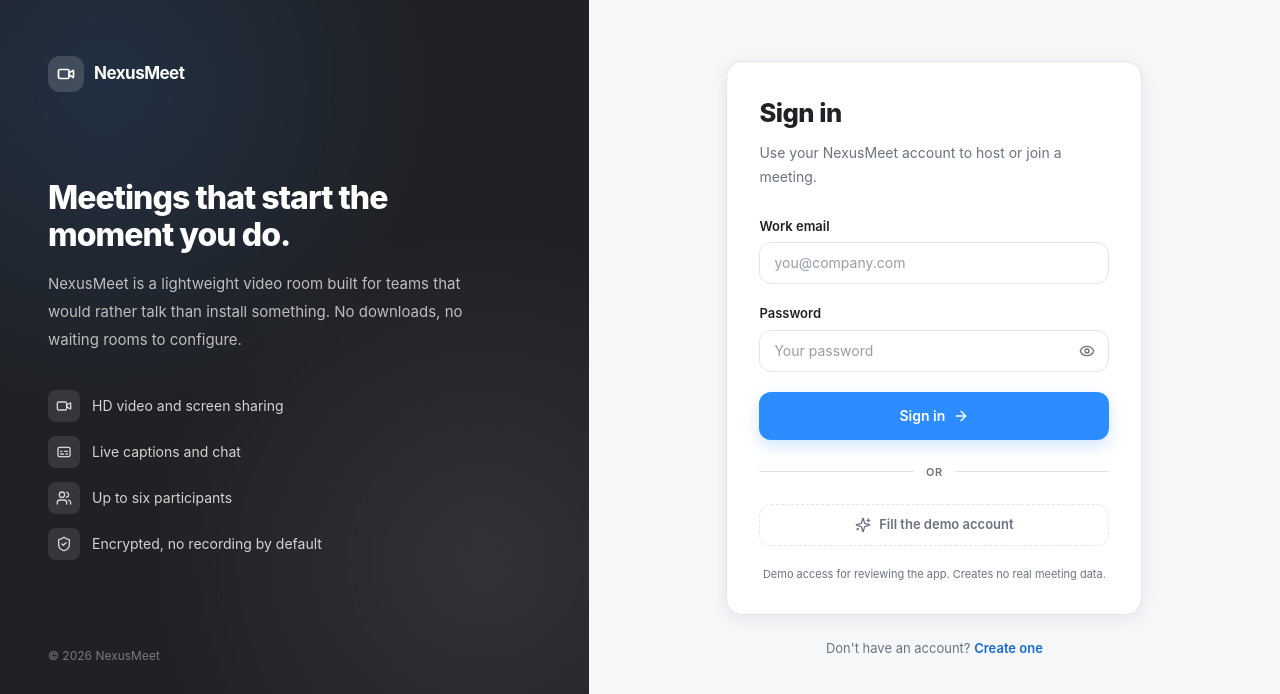
Test: SignInForm › maps a 422 password error onto the password field instead of a generic banner
The width and height of the screenshot is (1280, 694).
Type "demo@nexusmeet.app" into the field labelled "Work email". click: (934, 263)
box: [759, 242, 1109, 284]
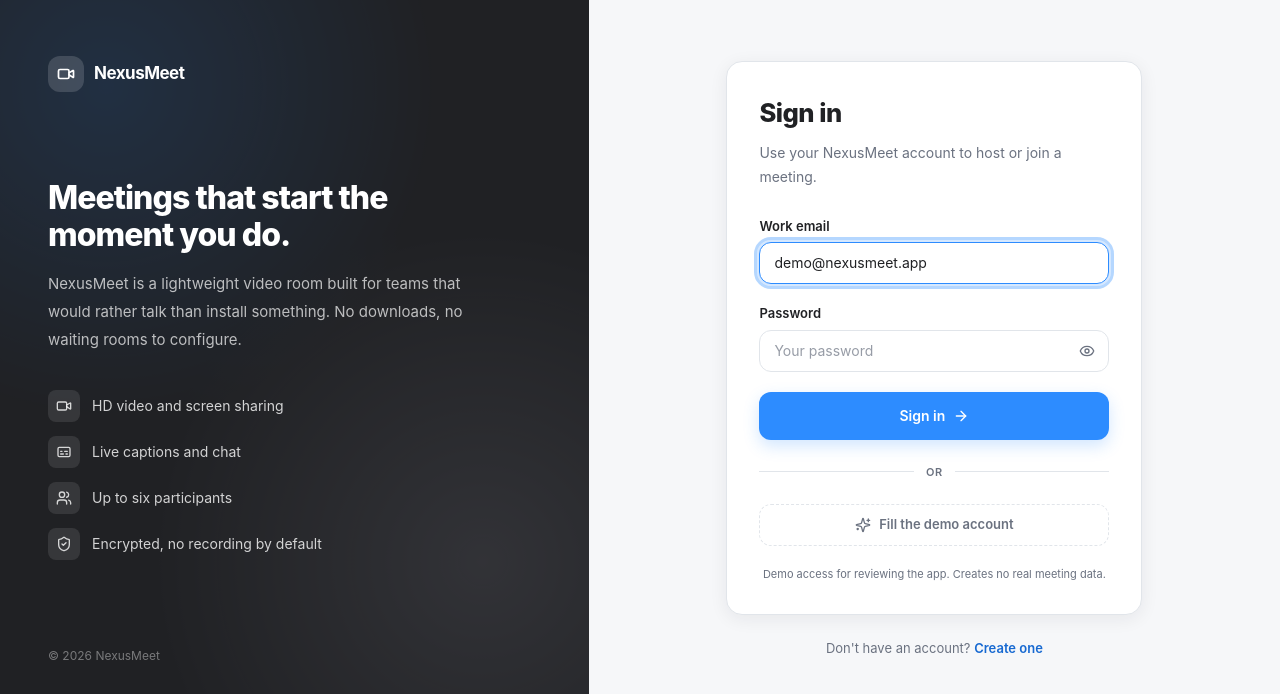
Type "demo12345" into the password field labelled "Password". click: (934, 351)
box: [759, 330, 1109, 372]
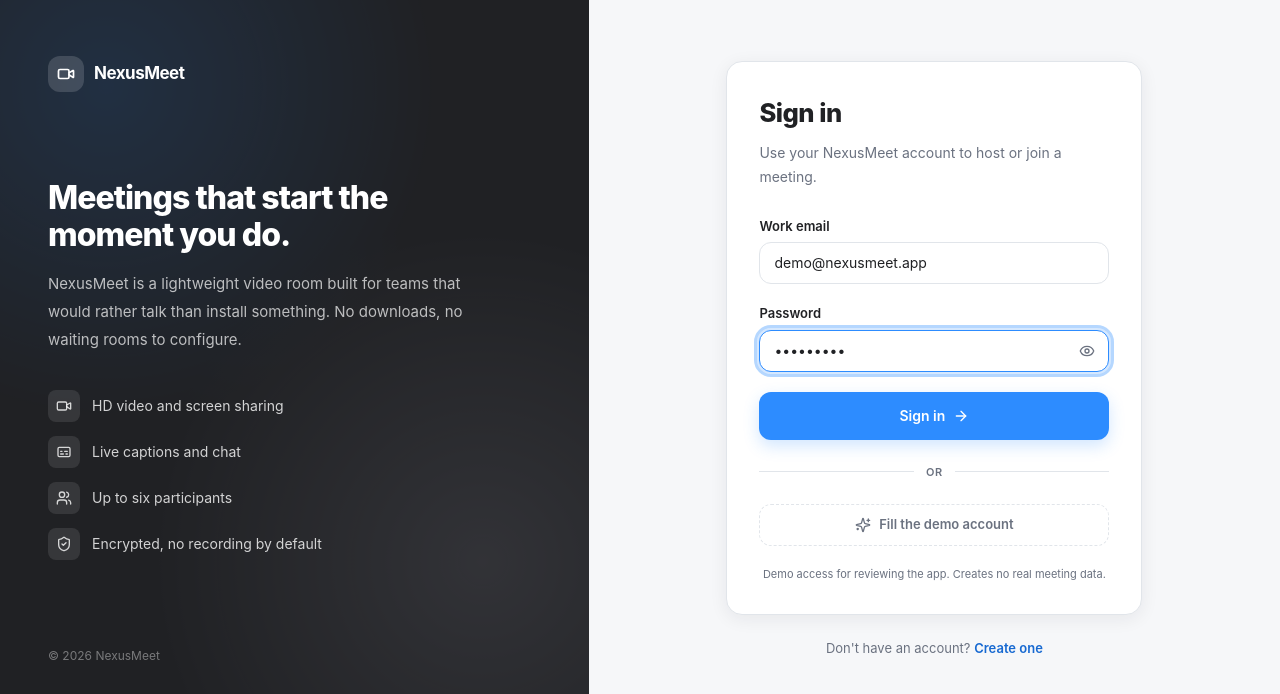
Click the button "Sign in". click: (934, 416)
box: [759, 392, 1109, 440]
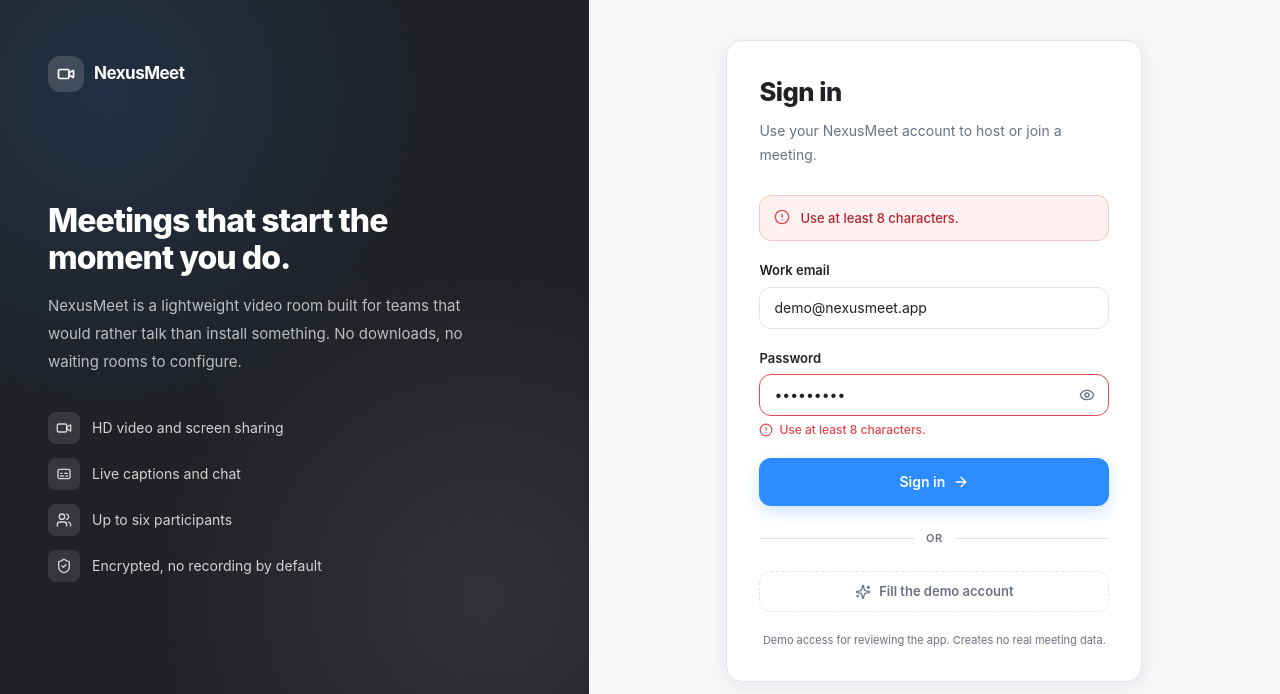
Expected: the 1st text "Use at least 8 characters." is shown, [800, 208, 959, 228]
